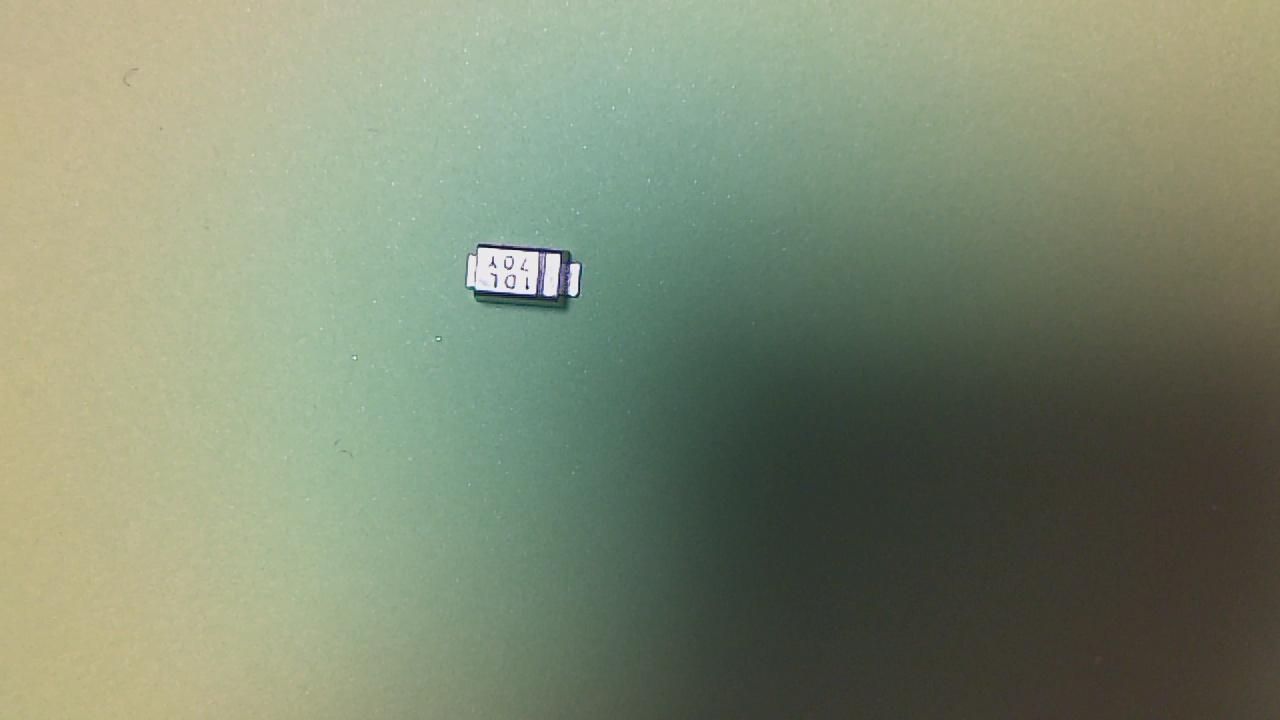Diode: (465, 239, 587, 319)
